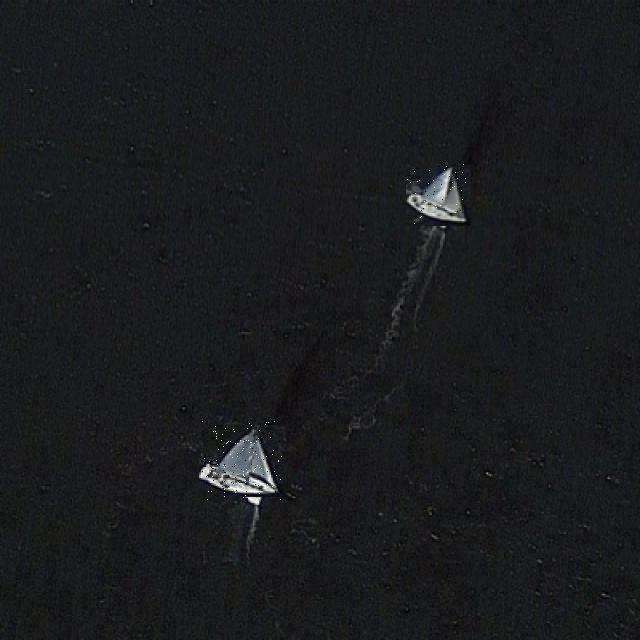boat: (202, 421, 282, 501), (407, 164, 470, 228)
